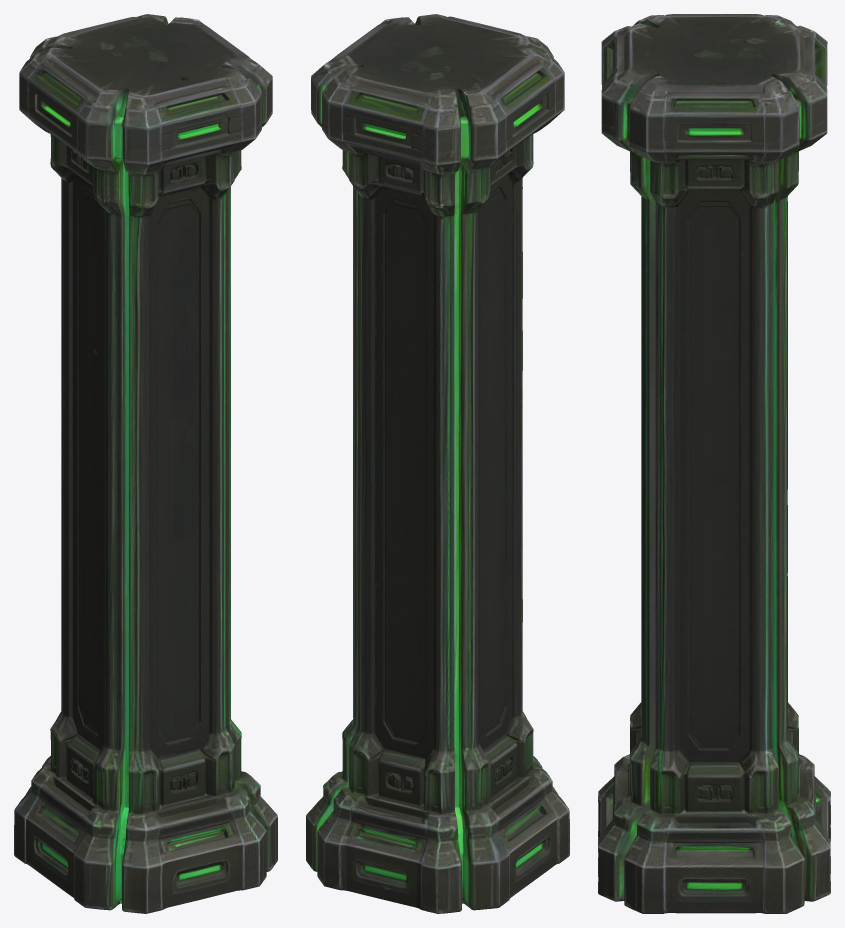
Rendered from tall-pillar.glb.
3 views of the same model, side by side, from view 1: azimuth 30°, elevation 25°; view 2: azimuth 150°, elevation 25°; view 3: azimuth 270°, elevation 25° (orthographic).
Visible parts, largest first — view 1: material; view 2: material; view 3: material.
Boxes of the visible parts, x1,y1,x2,y2 form: material: (14,14,277,913); material: (306,14,569,913); material: (598,14,830,913).
Size of the model in its own units: 0.292 by 1.16 by 0.2994.
Materials: 1 (1 with a texture image).
